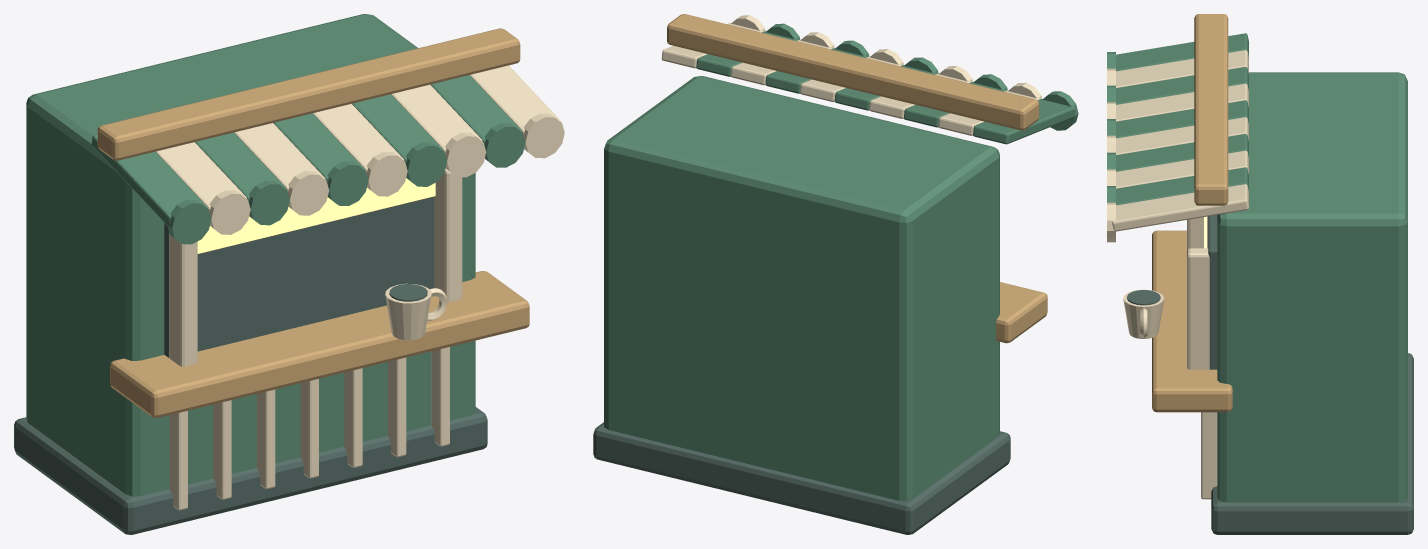
File: common_takeaway_window.glb
3 renders of one model, left to right at view 1: azimuth 30°, elevation 25°; view 2: azimuth 150°, elevation 25°; view 3: azimuth 270°, elevation 25°, orthographic. The views are drawn at different scales.
Parts seen in each view (by area): view 1: common_takeaway_window__common-sage, common_takeaway_window__common-ivory, common_takeaway_window__common-dark-timber, common_takeaway_window__common-brushed-brass, common_takeaway_window__common-warm-glow; view 2: common_takeaway_window__common-sage, common_takeaway_window__common-brushed-brass, common_takeaway_window__common-dark-timber, common_takeaway_window__common-ivory; view 3: common_takeaway_window__common-sage, common_takeaway_window__common-ivory, common_takeaway_window__common-brushed-brass, common_takeaway_window__common-dark-timber.
Boxes of the visible parts, <box> form: common_takeaway_window__common-sage: <box>26,14,525,496</box>; common_takeaway_window__common-ivory: <box>156,65,564,510</box>; common_takeaway_window__common-dark-timber: <box>14,196,487,534</box>; common_takeaway_window__common-brushed-brass: <box>97,28,529,417</box>; common_takeaway_window__common-warm-glow: <box>197,178,435,253</box>; common_takeaway_window__common-sage: <box>604,23,1078,500</box>; common_takeaway_window__common-brushed-brass: <box>667,14,1047,343</box>; common_takeaway_window__common-dark-timber: <box>593,422,1010,534</box>; common_takeaway_window__common-ivory: <box>661,15,1042,135</box>; common_takeaway_window__common-sage: <box>1107,33,1407,502</box>; common_takeaway_window__common-ivory: <box>1107,50,1248,499</box>; common_takeaway_window__common-brushed-brass: <box>1152,14,1232,412</box>; common_takeaway_window__common-dark-timber: <box>1127,215,1413,534</box>.
Bounding box in the file's own units: 2.8 × 2.71 × 2.09.
